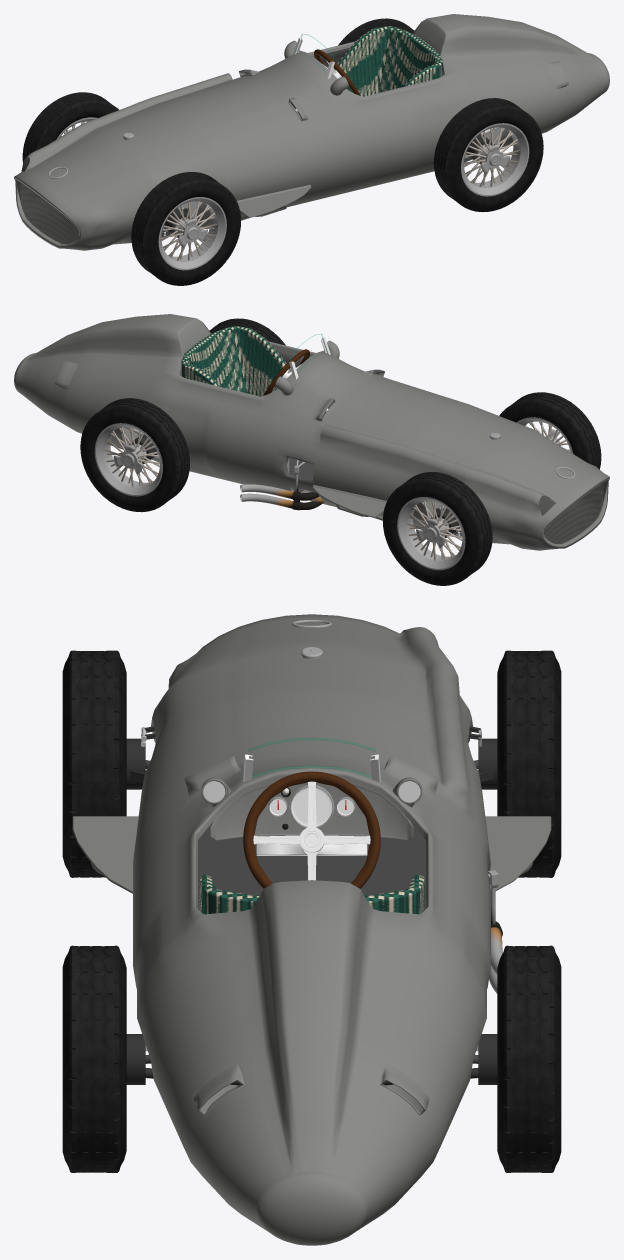
The picture shows the model from 3 angles, top to bottom: view 1: azimuth 30°, elevation 25°; view 2: azimuth 150°, elevation 25°; view 3: azimuth 270°, elevation 25°; orthographic projection. The views are drawn at different scales.
Visible parts, largest first — view 1: Carroceria_2, Rueda-03_59, Rueda-01_7, Asiento_27, Rueda-02_58, Parrilla_41, Rin-01-02_155, Rin-01-01_148, Aleta-01_10, Rin-Embellecedor-1-02_165, Rin-Embellecedor-1-01_164, Rueda-04_60 (+2 smaller); view 2: Carroceria_2, Rueda-04_60, Rueda-02_58, Asiento_27, Rueda-01_7, Parrilla_41, Rin-01-04_157, Rin-01-03_156, Aleta-02_48, Rin-Embellecedor-1-04_167, Rin-Embellecedor-1-03_166, Rueda-03_59 (+5 smaller); view 3: Carroceria_2, Rueda-03_59, Rueda-04_60, Rueda-01_7, Rueda-02_58, Separador-Cabina-Motor_21, Tablero_9, Volante_11, Aleta-01_10, Aleta-02_48, Asiento_27, Velocimetro_32 (+5 smaller).
Boxes of the visible parts, <box> form: Carroceria_2: <box>14,14,609,250</box>; Rueda-03_59: <box>433,98,543,212</box>; Rueda-01_7: <box>131,172,240,285</box>; Asiento_27: <box>333,26,442,96</box>; Rueda-02_58: <box>22,92,118,162</box>; Parrilla_41: <box>15,180,79,243</box>; Rin-01-02_155: <box>461,123,529,196</box>; Rin-01-01_148: <box>158,197,226,270</box>; Aleta-01_10: <box>237,185,311,217</box>; Rin-Embellecedor-1-02_165: <box>464,127,519,186</box>; Rin-Embellecedor-1-01_164: <box>161,201,217,260</box>; Rueda-04_60: <box>338,18,414,45</box>; Carroceria_2: <box>14,314,609,550</box>; Rueda-04_60: <box>80,398,189,512</box>; Rueda-02_58: <box>383,472,492,585</box>; Asiento_27: <box>181,326,290,396</box>; Rueda-01_7: <box>499,392,601,469</box>; Parrilla_41: <box>544,480,608,543</box>; Rin-01-04_157: <box>94,423,162,496</box>; Rin-01-03_156: <box>397,497,465,570</box>; Aleta-02_48: <box>312,485,386,517</box>; Rin-Embellecedor-1-04_167: <box>104,427,159,486</box>; Rin-Embellecedor-1-03_166: <box>406,501,462,560</box>; Rueda-03_59: <box>209,318,285,345</box>; Carroceria_2: <box>133,614,490,1245</box>; Rueda-03_59: <box>62,945,126,1172</box>; Rueda-04_60: <box>497,945,561,1172</box>; Rueda-01_7: <box>62,650,126,877</box>; Rueda-02_58: <box>497,650,561,877</box>; Separador-Cabina-Motor_21: <box>198,823,425,909</box>; Tablero_9: <box>210,781,413,840</box>; Volante_11: <box>243,771,380,888</box>; Aleta-01_10: <box>72,816,138,893</box>; Aleta-02_48: <box>485,816,551,890</box>; Asiento_27: <box>199,874,424,914</box>; Velocimetro_32: <box>289,785,334,828</box>.
Bounding box in the file's own units: 10.3 × 2.68 × 3.9.
Materials: 81 (50 with a texture image).
